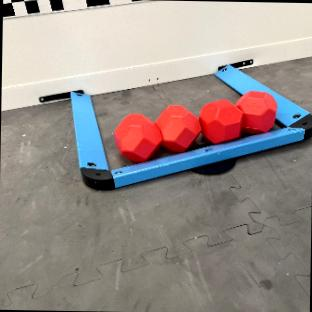Parking - Part: (70, 67, 310, 188)
